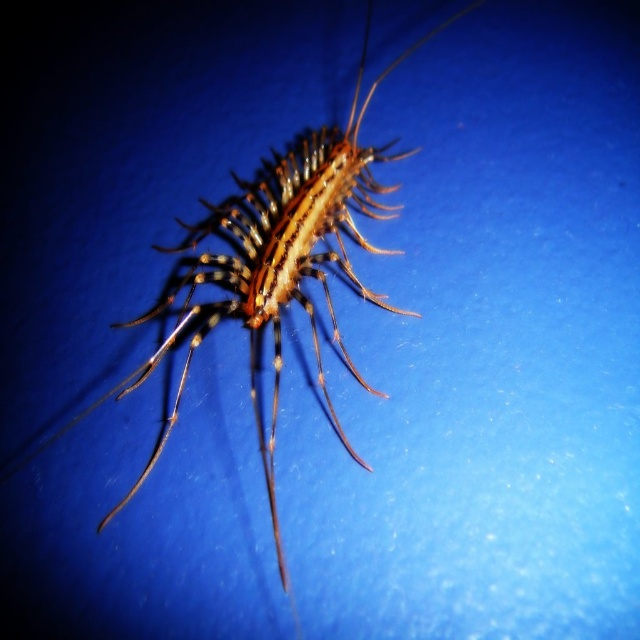Centipede: (0, 0, 486, 604)
